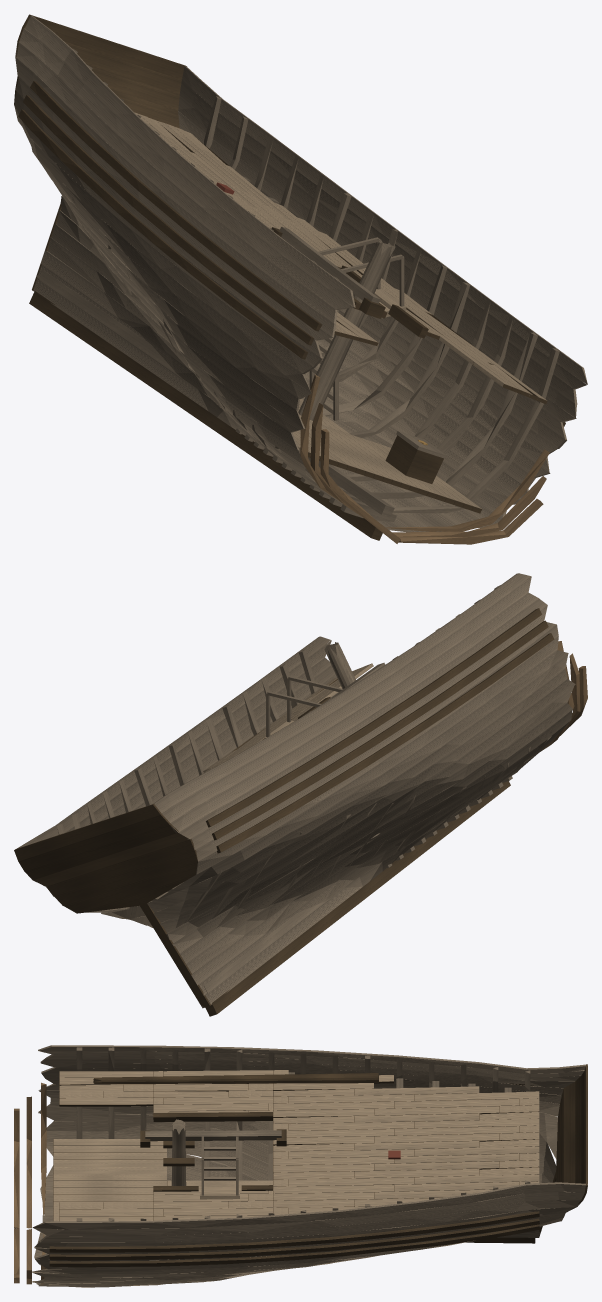
File: ship_lod2.glb
3 renders of one model, top to bottom at view 1: azimuth 30°, elevation 25°; view 2: azimuth 150°, elevation 25°; view 3: azimuth 270°, elevation 25°, orthographic. The views are drawn at different scales.
Parts seen in each view (by area): view 1: lod2_hull_strake_starboard_17, lod2_hull_strake_starboard_16, lod2_hull_strake_starboard_15, lod2_hull_strake_port_17, lod2_fractured_keel, lod2_hull_strake_port_16, lod2_hull_strake_port_15, lod2_hull_strake_port_14, lod2_hull_strake_starboard_10, lod2_hull_strake_starboard_09, lod2_wale_s_0, lod2_wale_s_1 (+46 smaller); view 2: lod2_hull_strake_starboard_17, lod2_hull_strake_starboard_16, lod2_hull_strake_starboard_15, lod2_hull_strake_starboard_09, lod2_hull_strake_starboard_10, lod2_hull_strake_starboard_08, lod2_hull_strake_starboard_07, lod2_hull_strake_starboard_06, lod2_hull_strake_starboard_05, lod2_hull_strake_starboard_04, lod2_hull_strake_starboard_03, lod2_fractured_keel (+24 smaller); view 3: lod2_hull_strake_port_17, lod2_hull_strake_port_16, lod2_hull_strake_port_15, lod2_hull_strake_starboard_17, lod2_wale_p_0, lod2_wale_p_1, lod2_wale_p_2, lod2_fallen_yard, lod2_hull_strake_starboard_14, lod2_hull_strake_starboard_13, lod2_hull_strake_port_14, lod2_hull_strake_starboard_16 (+104 smaller).
Boxes of the visible parts, x1,y1,x2,y2 form: lod2_hull_strake_starboard_17: [25, 15, 355, 307]; lod2_hull_strake_starboard_16: [19, 28, 354, 309]; lod2_hull_strake_starboard_15: [15, 42, 337, 324]; lod2_hull_strake_port_17: [182, 65, 587, 384]; lod2_fractured_keel: [29, 291, 382, 540]; lod2_hull_strake_port_16: [179, 80, 586, 389]; lod2_hull_strake_port_15: [178, 95, 577, 404]; lod2_hull_strake_port_14: [178, 111, 576, 417]; lod2_hull_strake_starboard_10: [23, 128, 314, 374]; lod2_hull_strake_starboard_09: [34, 152, 311, 392]; lod2_wale_s_0: [30, 81, 322, 331]; lod2_wale_s_1: [23, 95, 314, 345]; lod2_hull_strake_starboard_17: [152, 573, 531, 813]; lod2_hull_strake_starboard_16: [162, 576, 531, 822]; lod2_hull_strake_starboard_15: [170, 593, 538, 832]; lod2_hull_strake_starboard_09: [147, 650, 568, 912]; lod2_hull_strake_starboard_10: [157, 636, 558, 899]; lod2_hull_strake_starboard_08: [154, 654, 568, 922]; lod2_hull_strake_starboard_07: [160, 669, 567, 932]; lod2_hull_strake_starboard_06: [166, 679, 575, 943]; lod2_hull_strake_starboard_05: [172, 685, 574, 953]; lod2_hull_strake_starboard_04: [180, 703, 572, 963]; lod2_hull_strake_starboard_03: [185, 710, 572, 973]; lod2_fractured_keel: [205, 781, 510, 1016]; lod2_hull_strake_port_17: [32, 1182, 587, 1229]; lod2_hull_strake_port_16: [33, 1191, 584, 1236]; lod2_hull_strake_port_15: [40, 1200, 580, 1242]; lod2_hull_strake_starboard_17: [38, 1045, 587, 1073]; lod2_wale_p_0: [49, 1211, 539, 1252]; lod2_wale_p_1: [49, 1218, 539, 1260]; lod2_wale_p_2: [49, 1224, 539, 1267]; lod2_fallen_yard: [93, 1073, 378, 1083]; lod2_hull_strake_starboard_14: [40, 1058, 574, 1087]; lod2_hull_strake_starboard_13: [41, 1063, 563, 1095]; lod2_hull_strake_port_14: [35, 1207, 573, 1248]; lod2_hull_strake_starboard_16: [39, 1051, 584, 1077].
Bounding box in the file's own units: 6.2 × 5.5 × 14.65.
6 materials, 4 textured.
